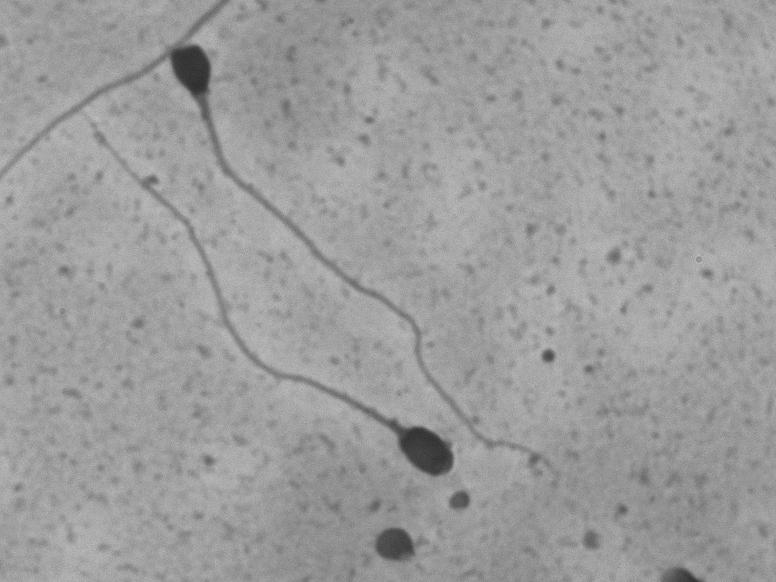Normal: (135, 41, 566, 481), (71, 103, 470, 490)
